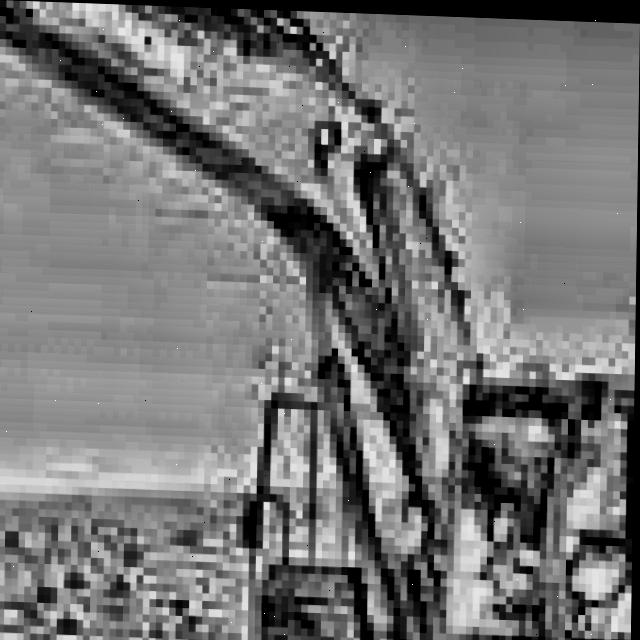excavator: (85, 260, 636, 640)
